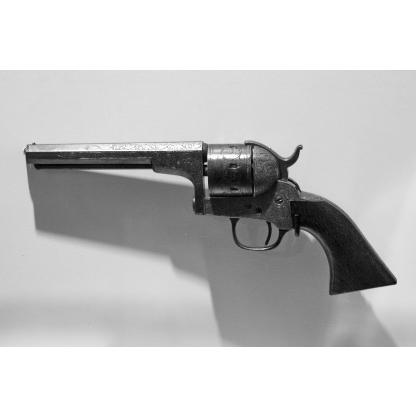gun: (23, 140, 396, 294)
